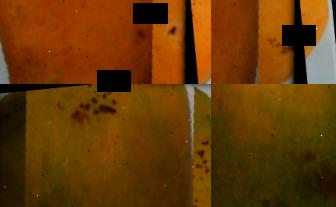PartiallyRipe: (0, 84, 211, 207), (211, 84, 336, 207)
Ripe: (0, 0, 200, 84), (211, 0, 308, 84)
